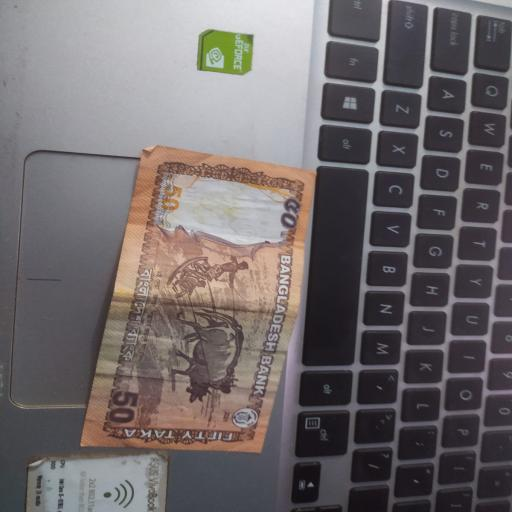50taka: (81, 146, 315, 452)
